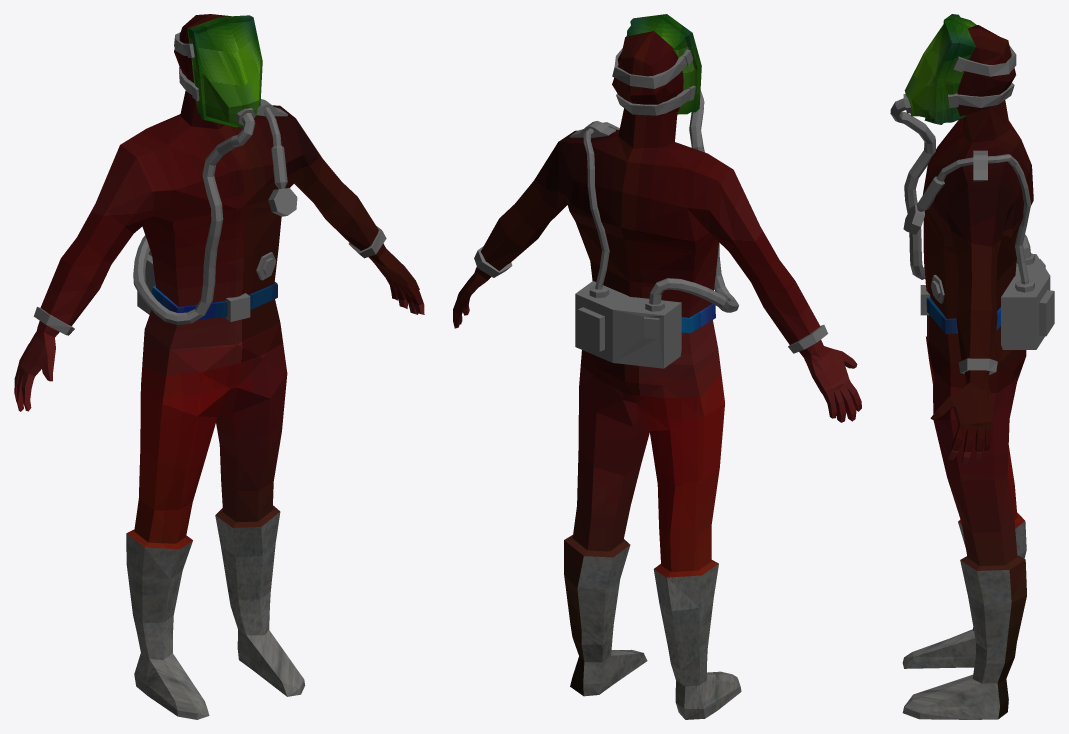
The model's file is player03.gltf.
The picture shows the model from 3 angles, left to right: view 1: azimuth 30°, elevation 25°; view 2: azimuth 150°, elevation 25°; view 3: azimuth 270°, elevation 25°; orthographic projection.
Size of the model in its own units: 1.39 by 2.22 by 0.4946.
